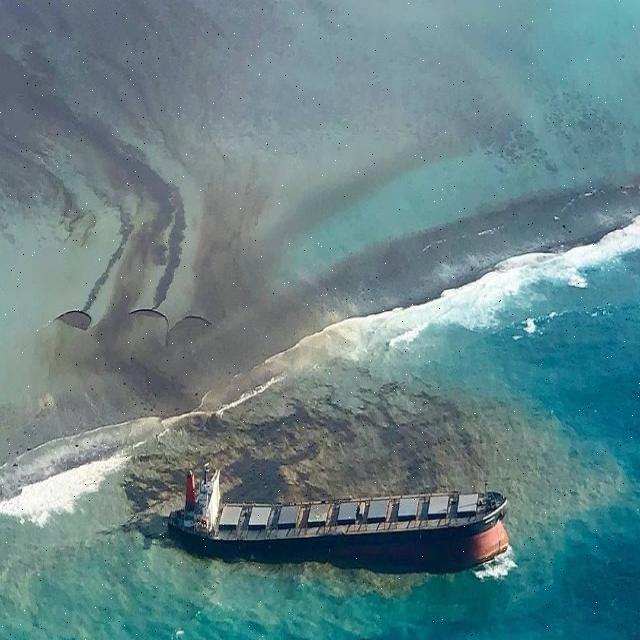oil: (16, 355, 638, 640)
